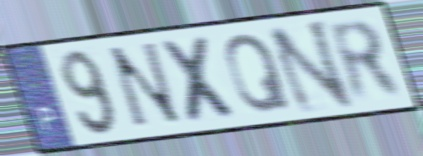9: (56, 47, 121, 139)
N: (264, 16, 358, 118), (104, 39, 187, 133)
Q: (223, 30, 295, 116)
R: (323, 18, 409, 107)
X: (155, 34, 245, 126)
